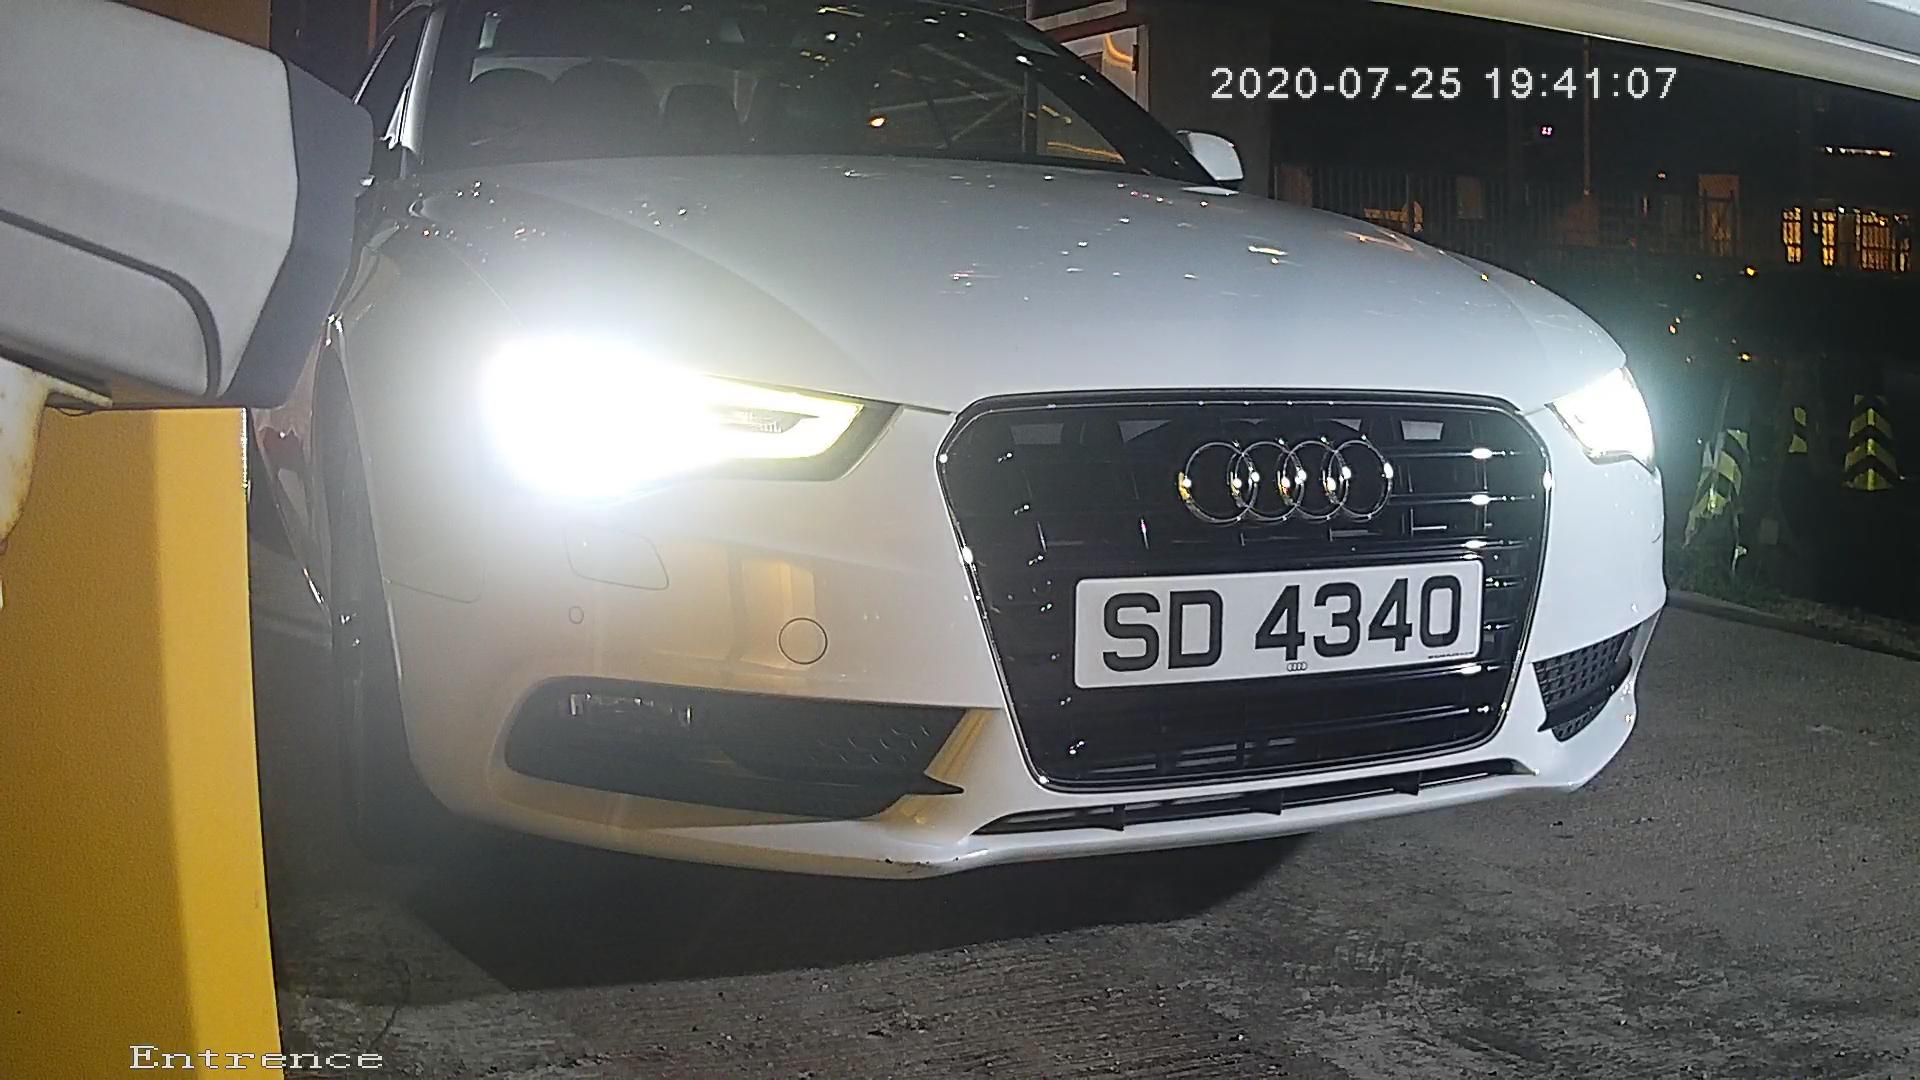Car: (146, 15, 1741, 936)
License Plate: (1063, 545, 1501, 700)
